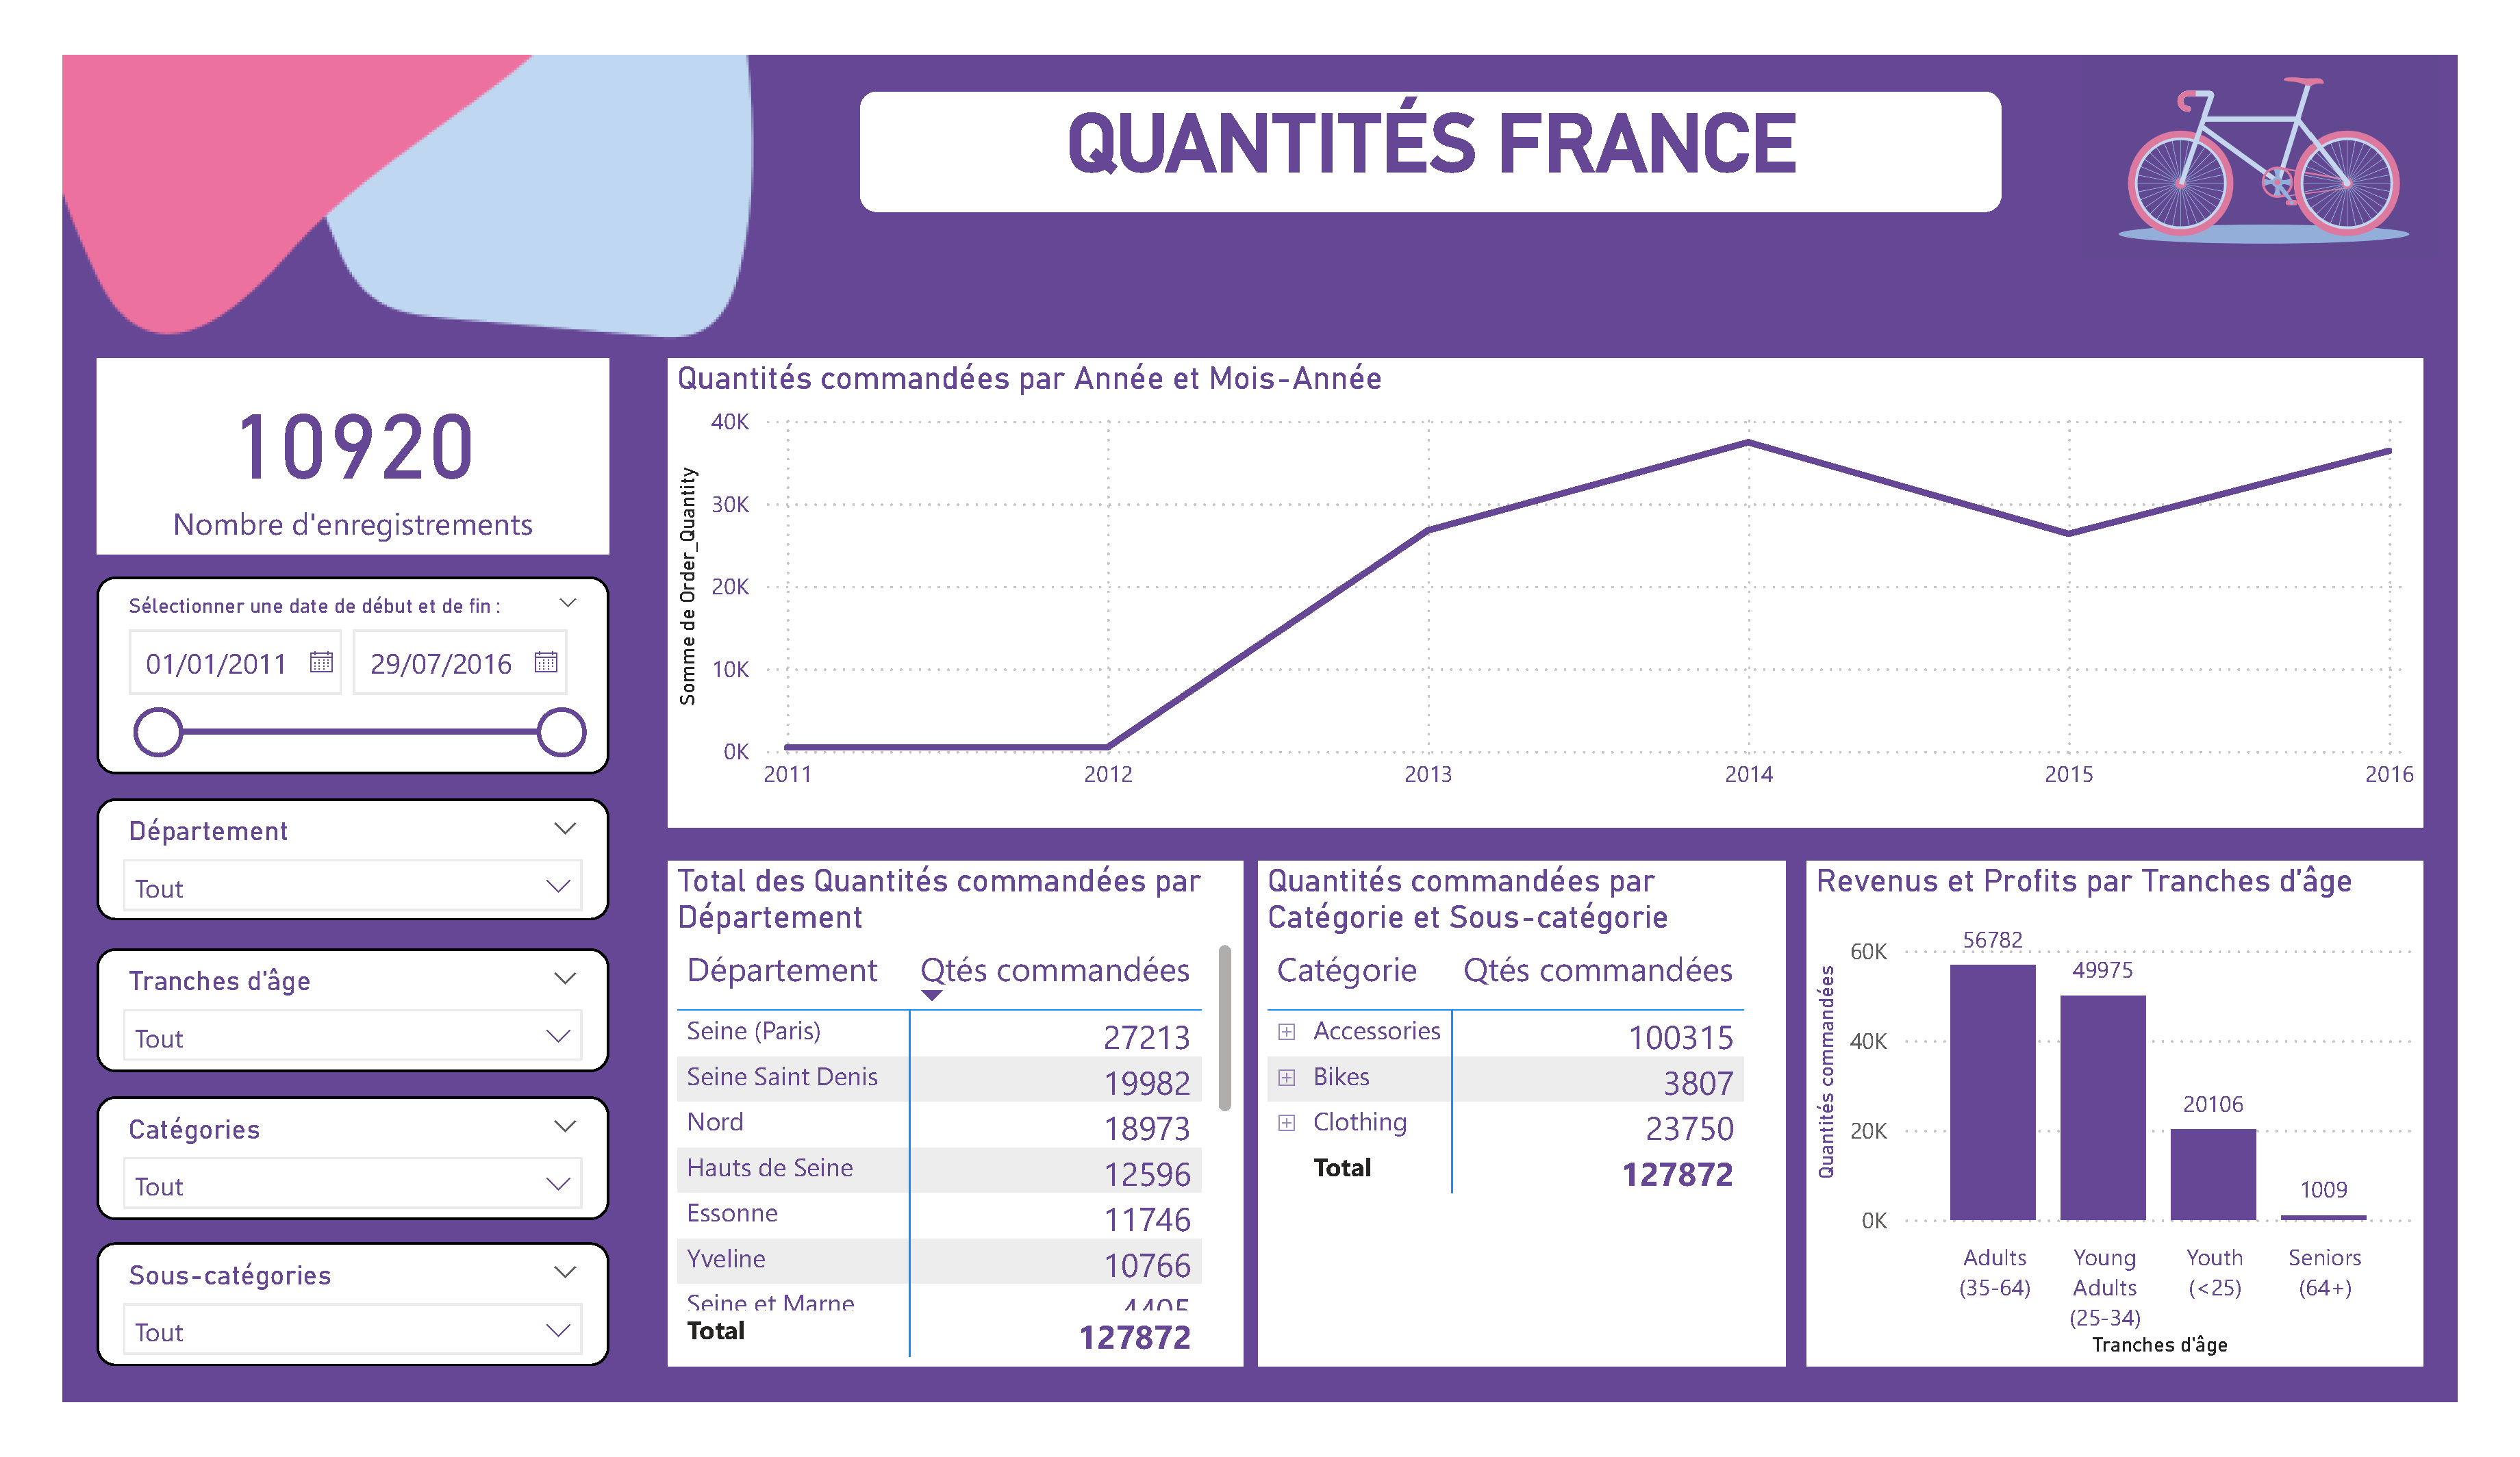

Layout of this report page (visuals, bound fields, positions):
{"tool":"powerbi","page":{"name":"Quantités","canvas":[1280,720],"ordinal":3},"visuals":[{"type":"image","box":[0,0,1280.3,720.4],"z":0},{"type":"image","box":[1063.5,0,207.2,116.6],"z":1000},{"type":"textbox","title":"QUANTITÉS FRANCE","box":[428.1,23.3,603.8,65.9],"z":2000},{"type":"card","fields":{"Values":["CountNonNull(france_df.Date)"]},"box":[27.1,164.7,270.3,102.9],"z":3000},{"type":"slicer","fields":{"Values":["france_df.Date"]},"box":[27.1,279.9,270.3,104.3],"z":4000},{"type":"slicer","fields":{"Values":["france_df.State"]},"box":[27.1,396.6,270.3,64.5],"z":5000},{"type":"slicer","fields":{"Values":["france_df.Age_Group"]},"box":[27.1,476.2,270.3,64.5],"z":6000},{"type":"slicer","fields":{"Values":["france_df.Product_Category"]},"box":[27.1,554.4,270.3,64.5],"z":7000},{"type":"slicer","fields":{"Values":["france_df.Sub_Category"]},"box":[27.1,631.2,270.3,64.5],"z":8000},{"type":"lineChart","title":"Quantités commandées par Année et Mois-Année","fields":{"Category":["france_df.Year","france_df.Month Year"],"Y":["Sum(france_df.Order_Quantity)"]},"box":[328,164.7,924.9,247],"z":9000},{"type":"pivotTable","title":"Total des Quantités commandées par Département","fields":{"Rows":["france_df.State"],"Values":["Sum(france_df.Order_Quantity)"]},"box":[328,429.5,303.3,266.2],"z":10000},{"type":"pivotTable","title":"Quantités commandées par Catégorie et Sous-catégorie","fields":{"Rows":["france_df.Product_Category","france_df.Sub_Category"],"Values":["Sum(france_df.Order_Quantity)"]},"box":[639.5,429.5,277.2,266.2],"z":11000},{"type":"clusteredColumnChart","title":"Revenus et Profits par Tranches d''âge","fields":{"Category":["france_df.Age_Group"],"Y":["Sum(france_df.Order_Quantity)"]},"box":[927.6,429.5,325.2,266.2],"z":12000}]}

Visuals, with their boxes in screenshot pixels (x1, y1, x2, y2), scaled from the page's 1280x720 canvas onto the 2520x1457 screenshot:
image: (0,0,2519,1456)
image: (2094,0,2502,236)
"QUANTITÉS FRANCE" textbox: (843,47,2032,181)
card - CountNonNull(france_df.Date): (53,333,585,542)
slicer - france_df.Date: (53,566,585,778)
slicer - france_df.State: (53,802,585,933)
slicer - france_df.Age_Group: (53,963,585,1094)
slicer - france_df.Product_Category: (53,1122,585,1252)
slicer - france_df.Sub_Category: (53,1278,585,1408)
"Quantités commandées par Année et Mois-Année" lineChart: (646,333,2467,833)
"Total des Quantités commandées par Département" pivotTable: (646,869,1243,1408)
"Quantités commandées par Catégorie et Sous-catégorie" pivotTable: (1259,869,1805,1408)
"Revenus et Profits par Tranches d''âge" clusteredColumnChart: (1826,869,2467,1408)
